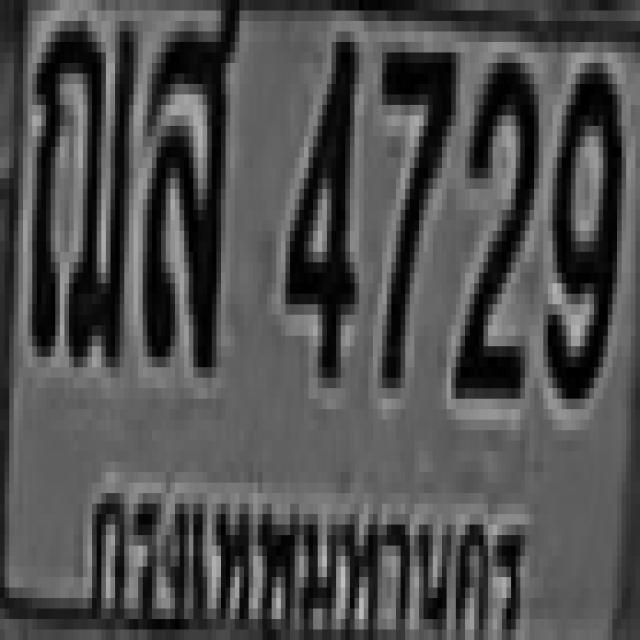2: (456, 58, 538, 393)
21ChorChoe: (26, 14, 134, 368)
4: (284, 24, 357, 381)
49SorSuea: (141, 1, 241, 370)
7: (380, 45, 453, 381)
9: (544, 59, 624, 402)
Bangkok: (79, 471, 528, 640)
